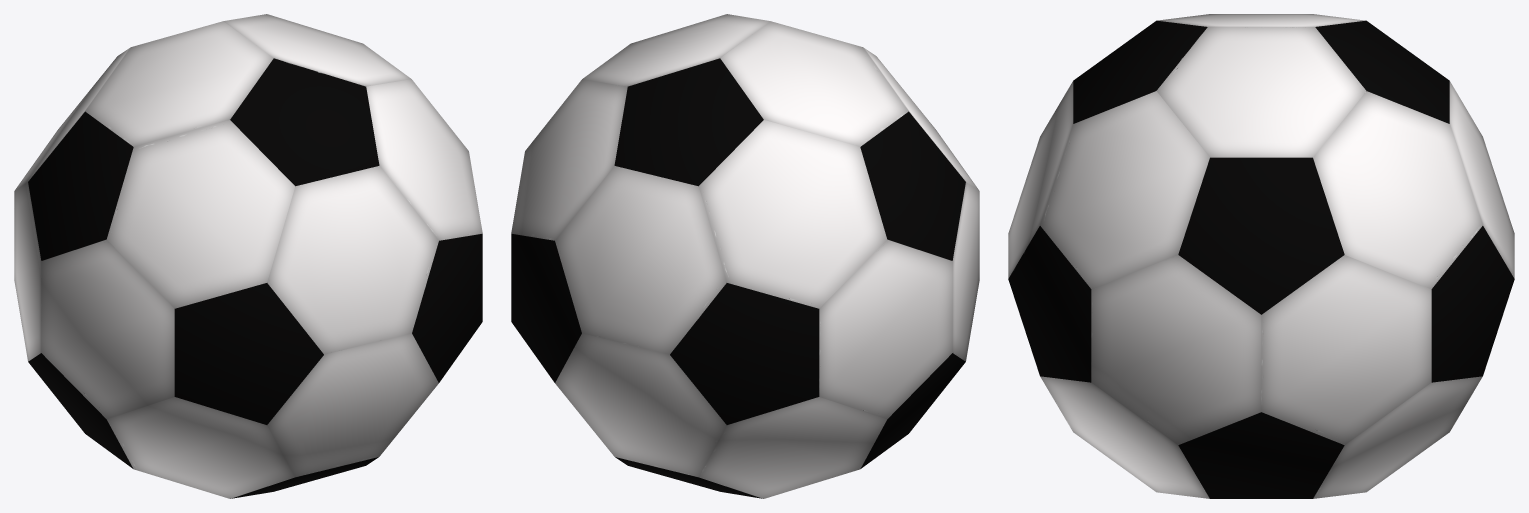
File: football.FBX
The picture shows the model from 3 angles, left to right: view 1: azimuth 30°, elevation 25°; view 2: azimuth 150°, elevation 25°; view 3: azimuth 270°, elevation 25°; orthographic projection. The views are drawn at different scales.
Visible parts, largest first — view 1: jalkapallo; view 2: jalkapallo; view 3: jalkapallo.
Part boxes in pixels (box(x1,y1,x2,y2)): jalkapallo: box(14, 14, 482, 498); jalkapallo: box(511, 14, 979, 498); jalkapallo: box(1008, 14, 1514, 498).
Size of the model in its own units: 60.34 by 60.34 by 60.34.
1 material, 1 textured.
